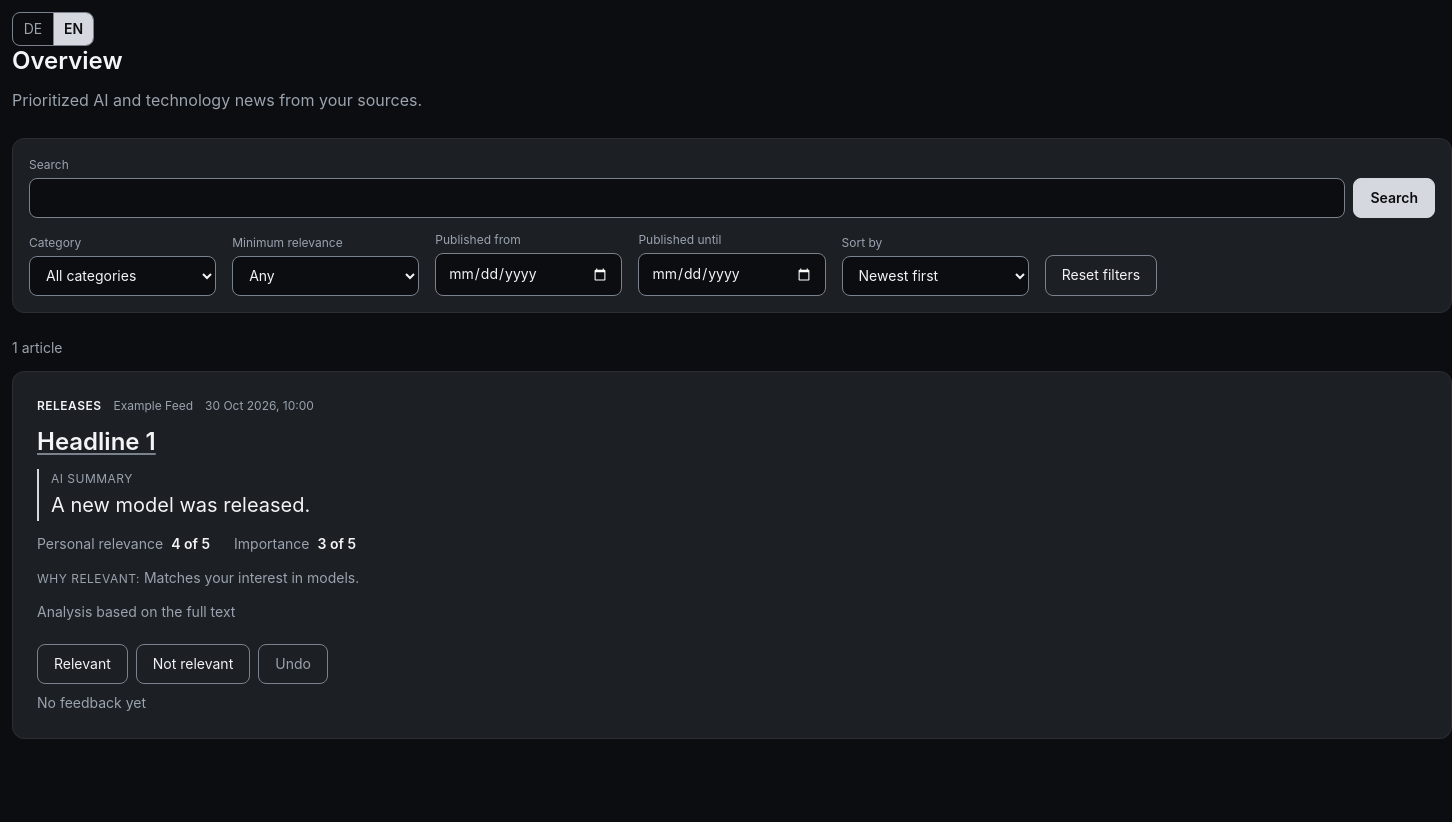
search, filters, sorting, and pages › reloads in the new language when it is switched
Expected: the text "AI summary" is shown, [51,471,133,486]
Click the button with aria-label "DE – Deutsch" at (33, 29), box [13,13,53,45]
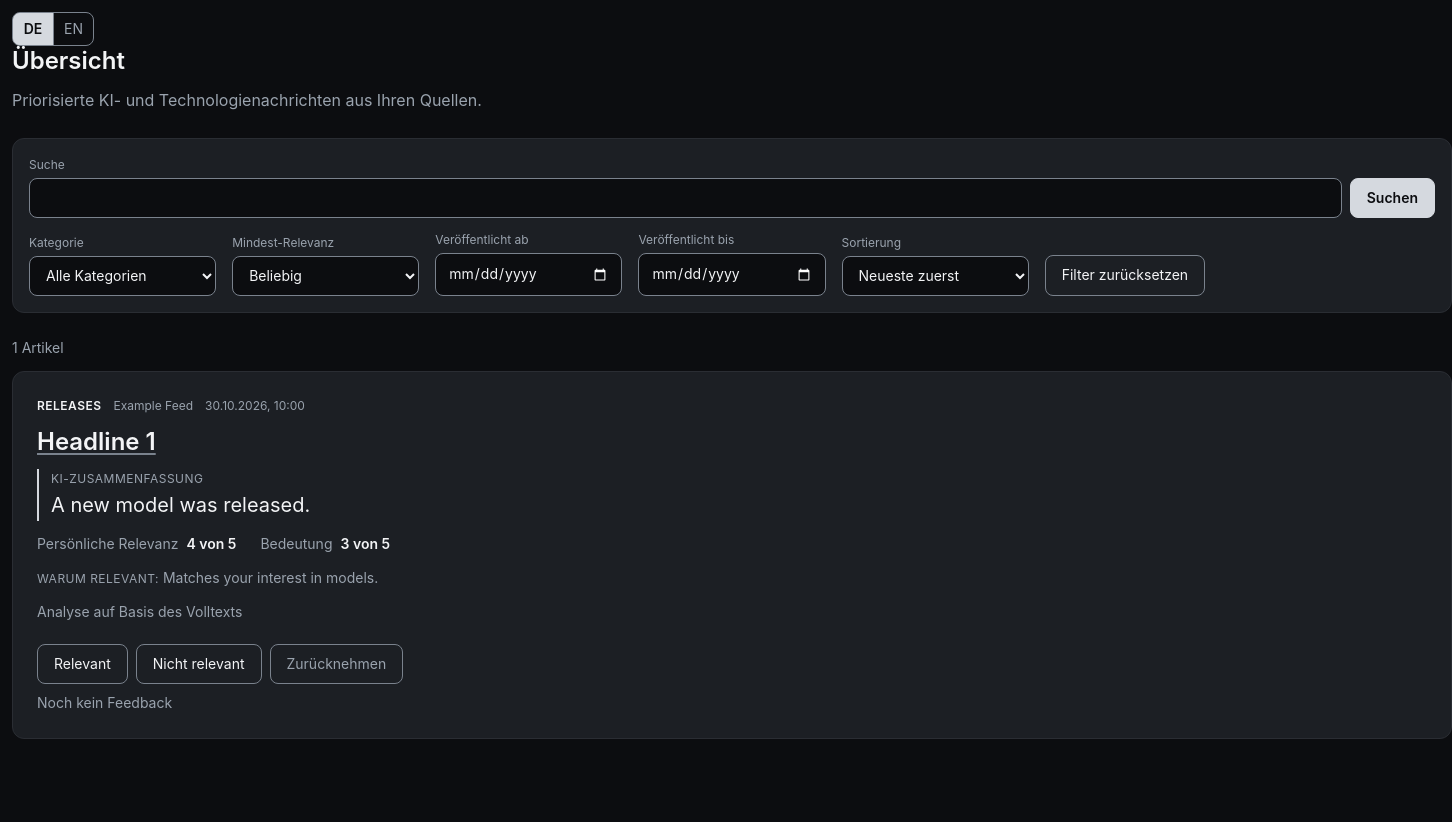
Expected: the text "KI-Zusammenfassung" is shown, [51,471,203,486]
Expected: the text "Persönliche Relevanz" is shown, [37,532,178,555]
